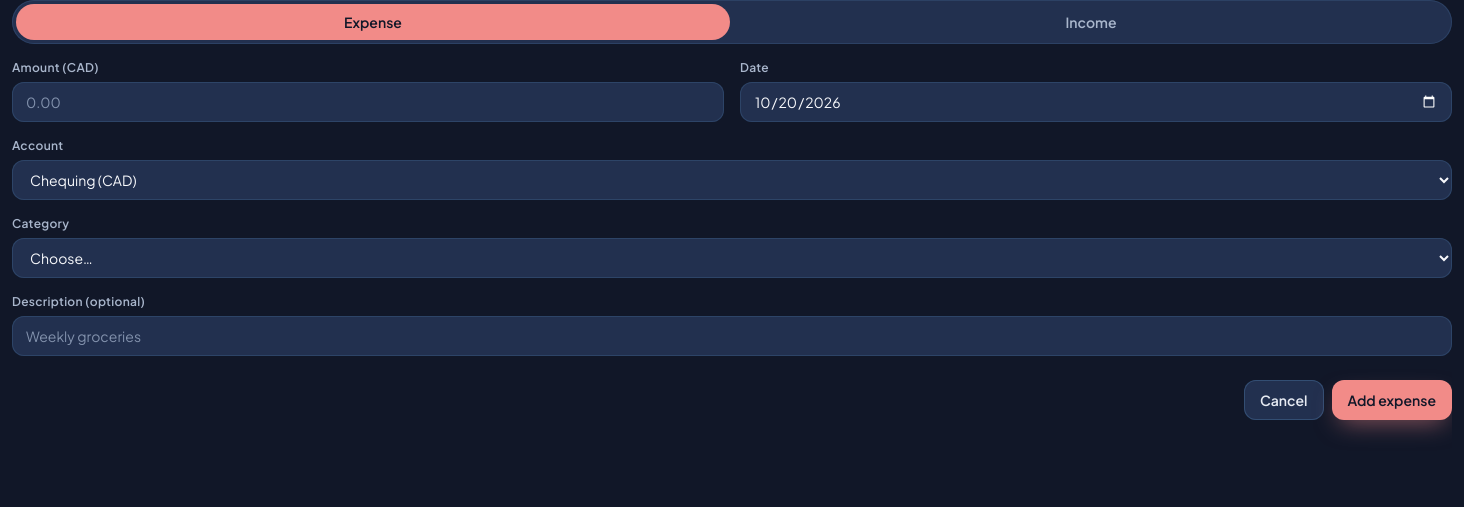
Test: TransactionForm › shows business-rule errors from the server
The image size is (1464, 507).
Type "10" into the field labelled "Amount (CAD)" at coordinates (368, 102), box [12,82,724,122]
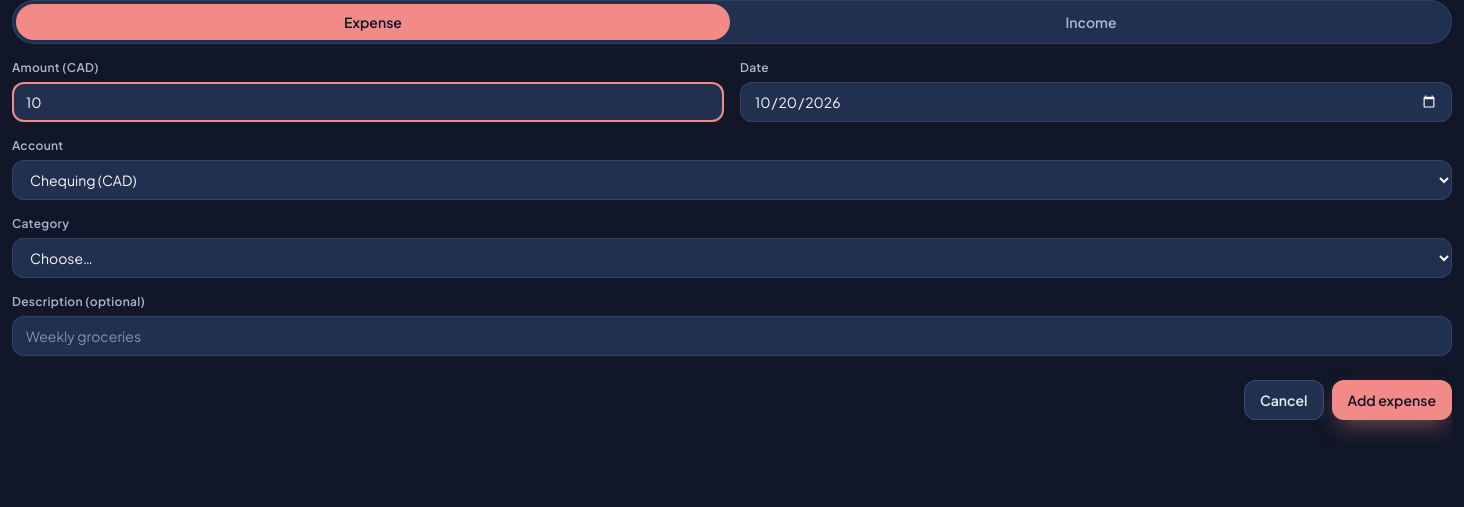
Select "Groceries" in the dropdown labelled "Category" at coordinates (732, 258), box [12,238,1452,278]
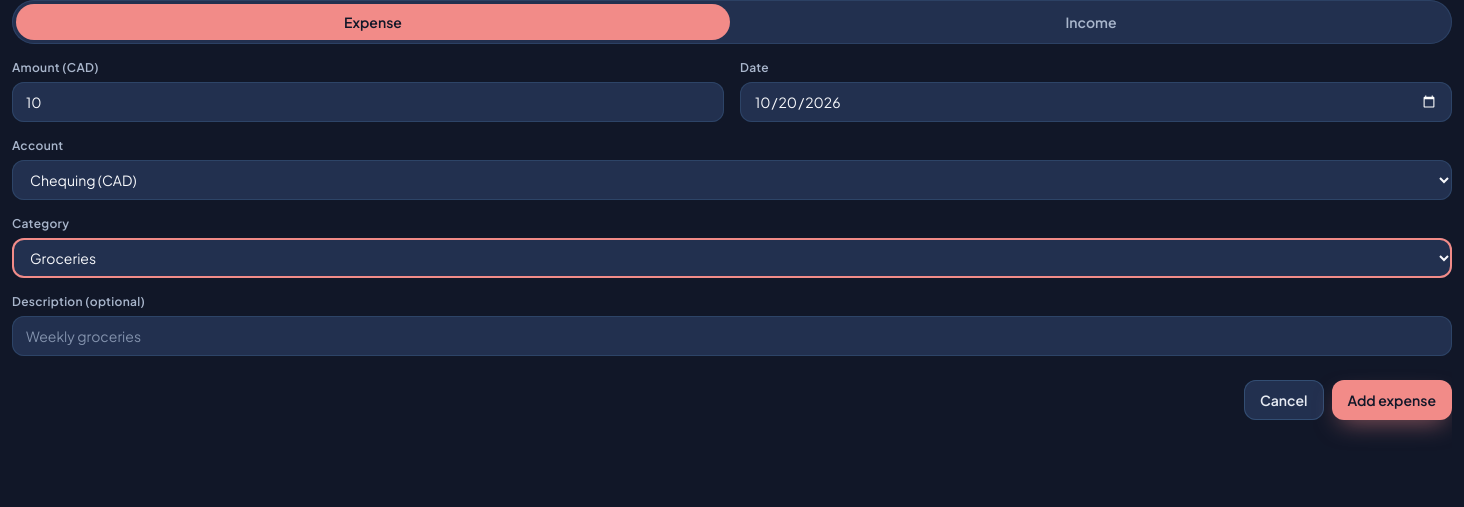
Click the button "Add expense" at coordinates (1392, 400), box [1332,380,1452,420]
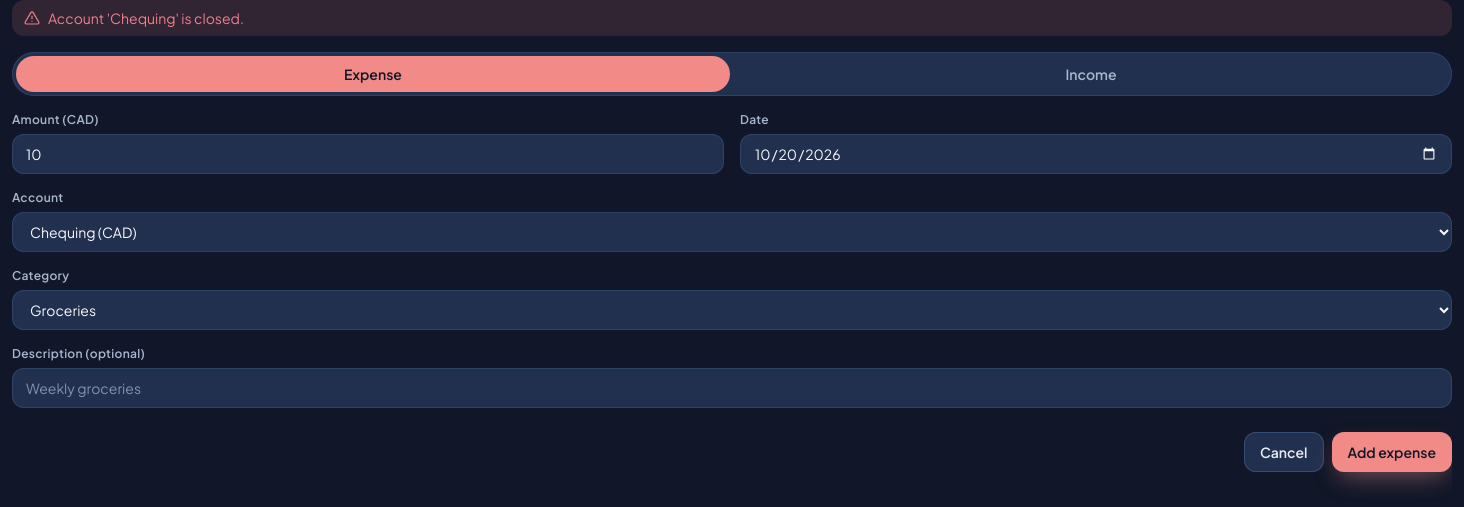
Result: the message reads "Account 'Chequing' is closed." at [48,9,244,27]
